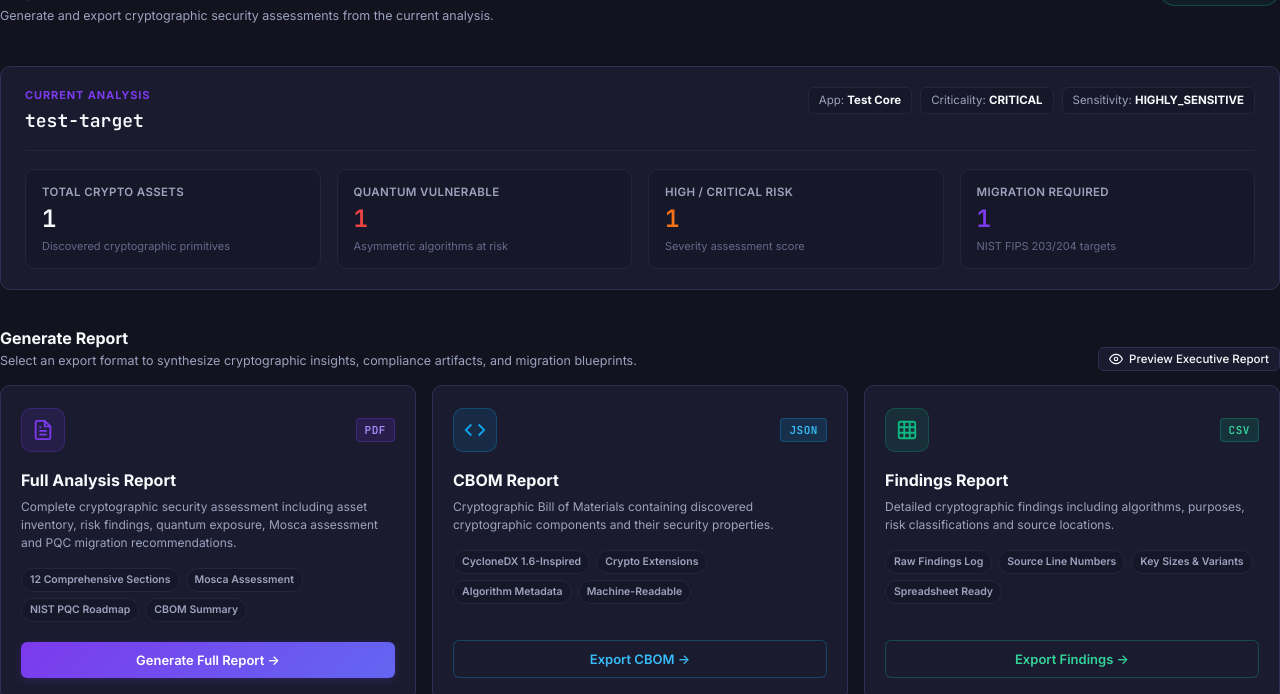
ECDAT Enterprise Frontend Redesign Tests › 19. Phase 4B: Exports CBOM JSON and Findings CSV and records in session history
The width and height of the screenshot is (1280, 694).
Note: Export CBOM
Click the button "Export CBOM →": (640, 659) [453, 640, 827, 678]
(page scrolled)
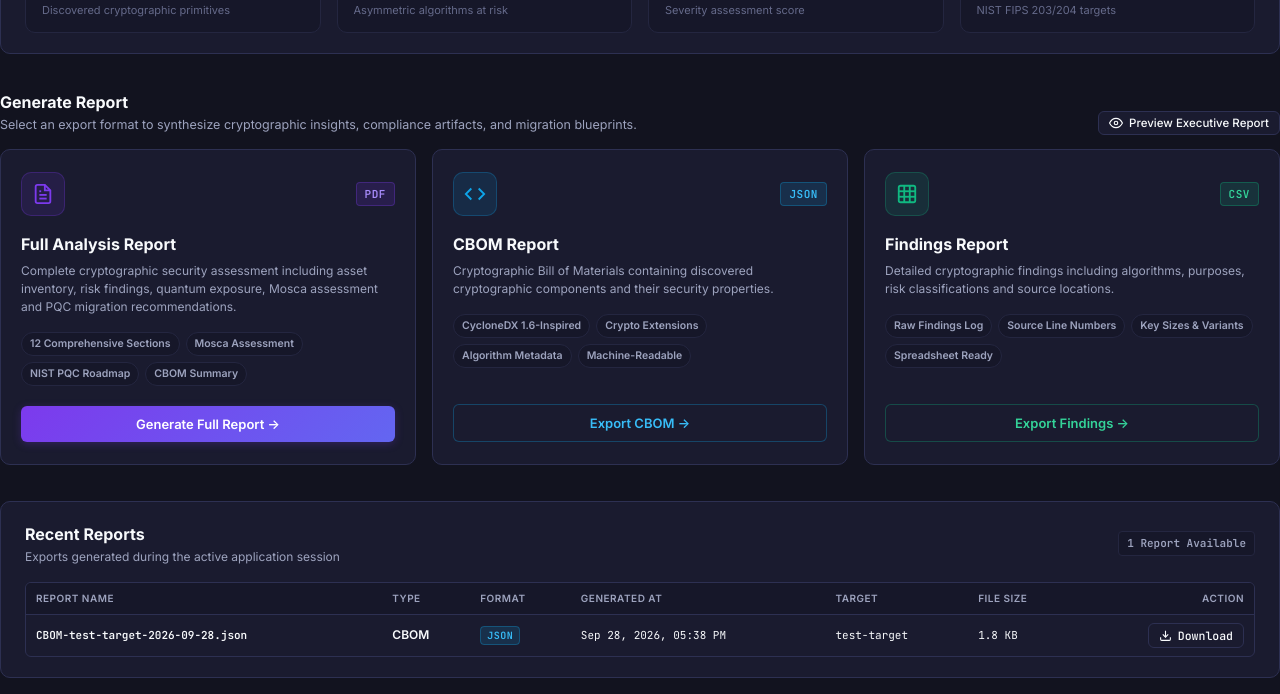
Expected: the heading "Recent Reports" is shown, [25, 524, 145, 544]
Expected: the text "1 Report Available" is shown, [1118, 531, 1255, 556]
Note: Export Findings CSV
Click the button "Export Findings →": (1072, 423) [885, 404, 1259, 442]
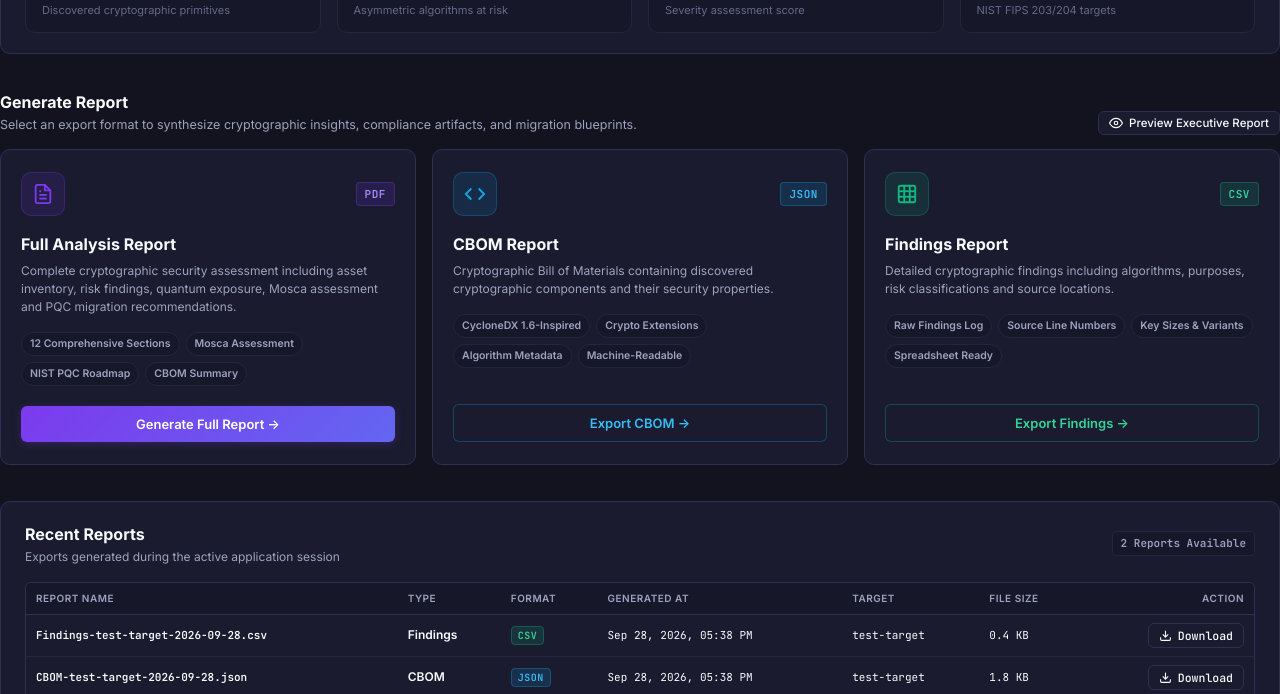
Expected: the text "2 Reports Available" is shown, [1112, 531, 1255, 556]
